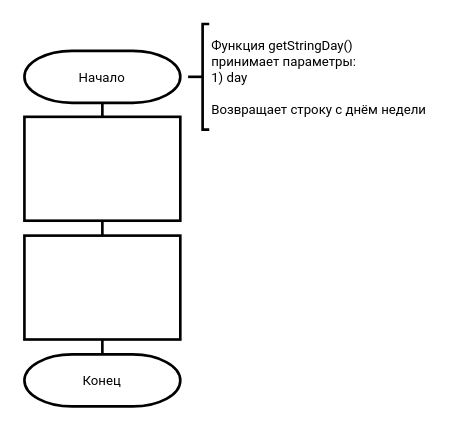
The diagram is 449 pixels wide and 430 high, and some of its shapes have lost their labels. The box of each missing label's shape, as (x1, y1, x2, y2) in pixels:
return ru[day]: (22, 234, 181, 340)
ru = ['Вс', 'Пн', 'Вт', 'Ср', 'Чт', 'Пт', 'Сб', 'Вс']: (22, 115, 181, 221)
